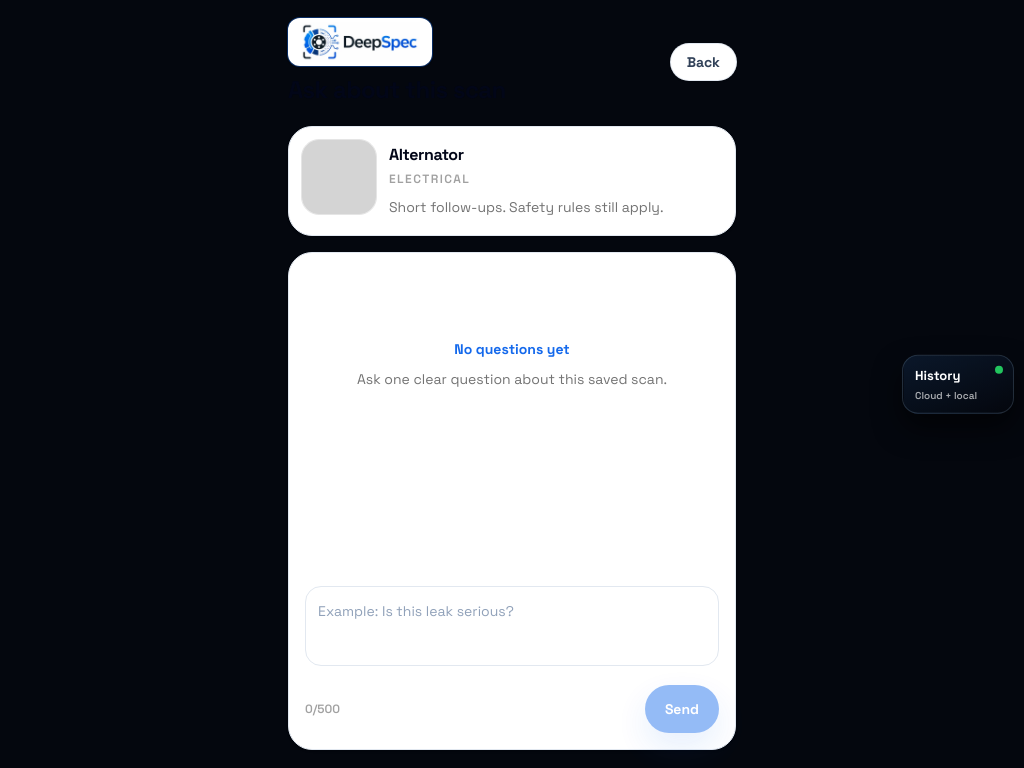
Test: Chat › retries the last unanswered question without duplicating the saved user message
Type "What should I check next?" into the text box named "Ask a follow-up question" at (512, 626), box [305,586,719,666]
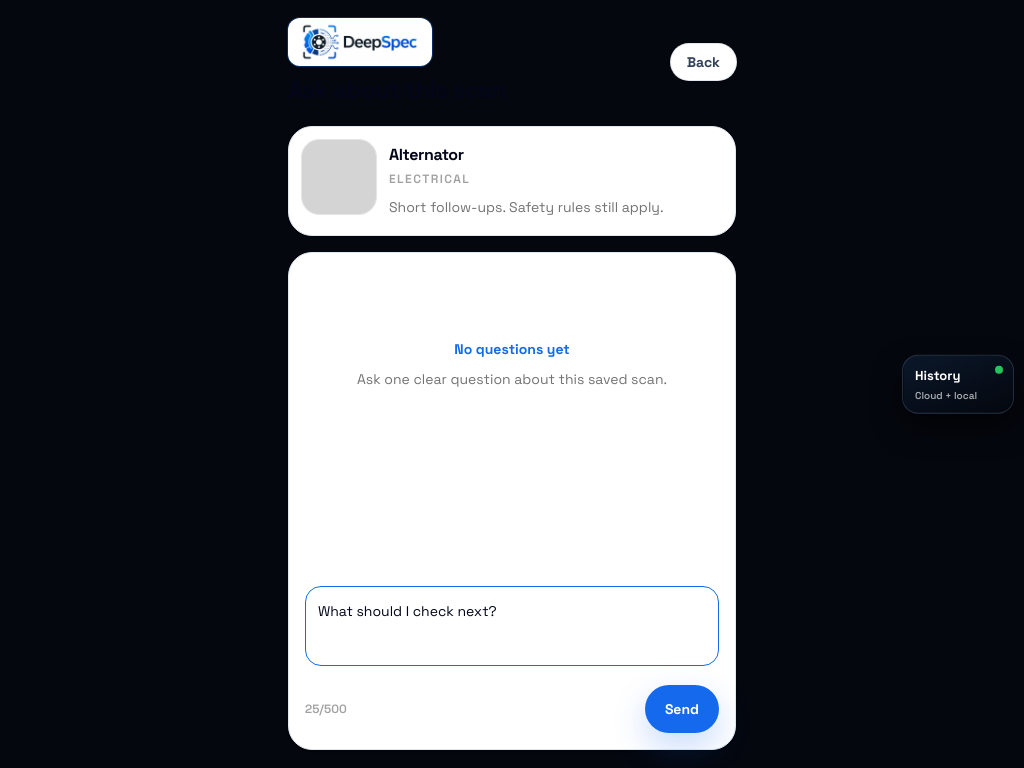
Click the button "Send" at (682, 709), box [645,685,719,733]
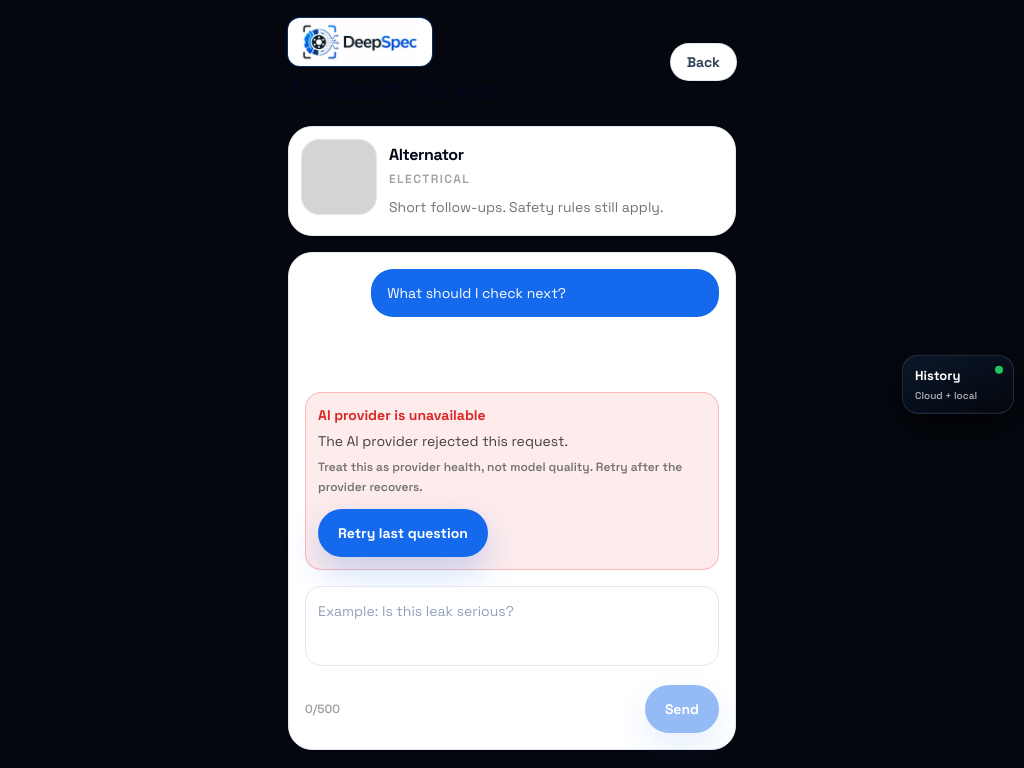
Click the button "Retry last question" at (403, 533), box [318,509,488,557]
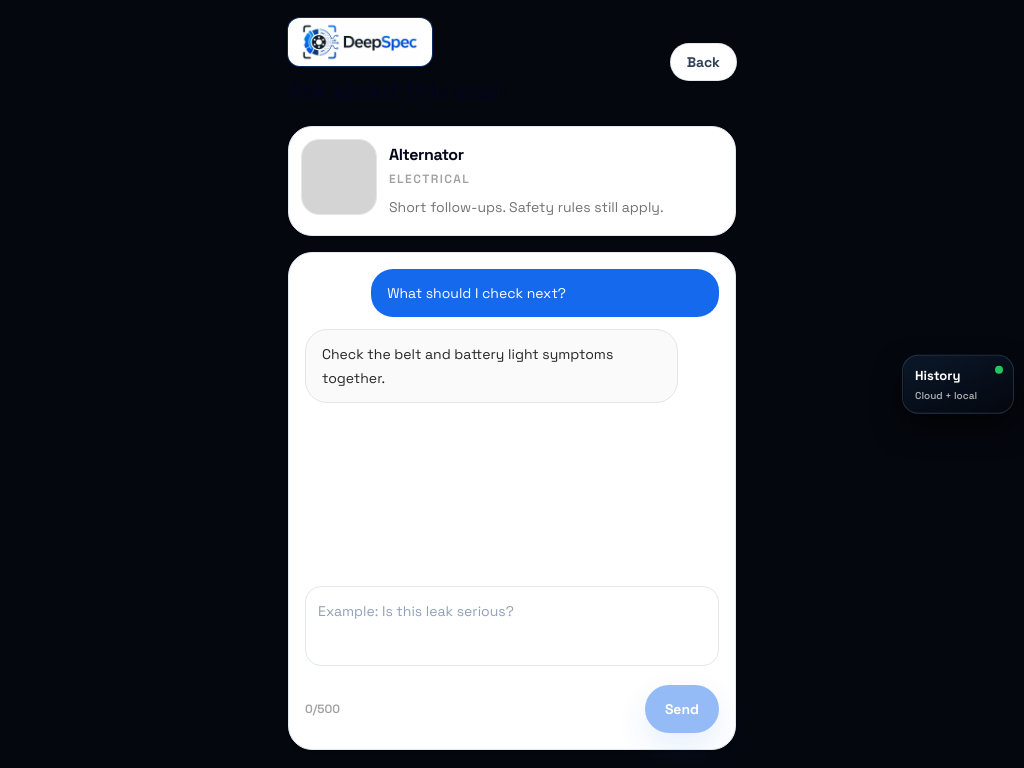
Result: the text "Check the belt and battery light symptoms together." is shown at [305,329,678,403]
